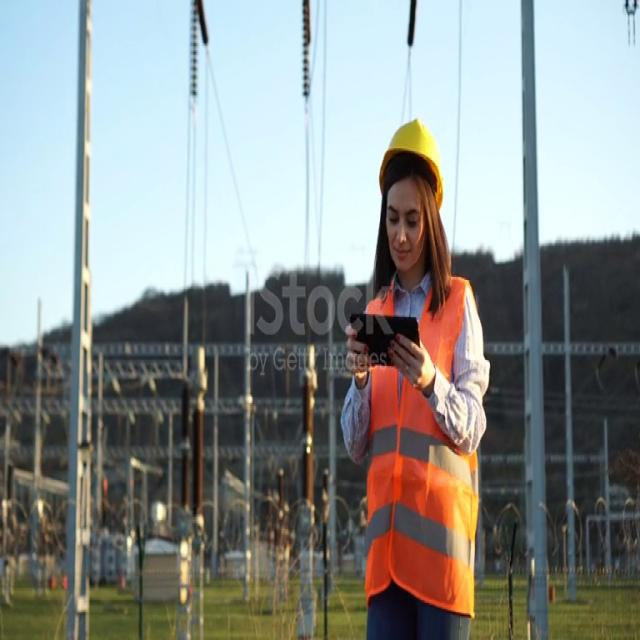capacete: (363, 103, 453, 224)
